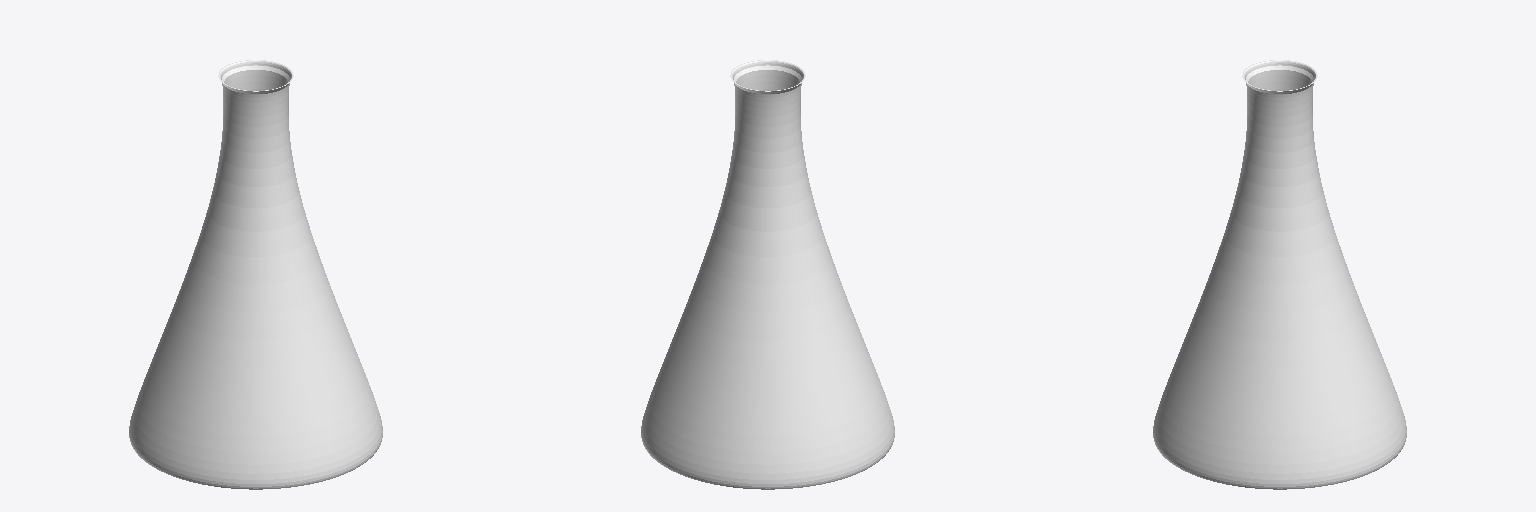
Rendered from Flask.obj.
3 views of the same model, side by side, from view 1: azimuth 30°, elevation 25°; view 2: azimuth 150°, elevation 25°; view 3: azimuth 270°, elevation 25° (orthographic).
Parts seen in each view (by area): view 1: Flask.002_Circle.002; view 2: Flask.002_Circle.002; view 3: Flask.002_Circle.002.
Boxes of the visible parts, x1,y1,x2,y2 form: Flask.002_Circle.002: [129, 60, 382, 489]; Flask.002_Circle.002: [641, 60, 894, 489]; Flask.002_Circle.002: [1153, 60, 1406, 489].
Bounding box in the file's own units: 0.1194 × 0.187 × 0.1194.